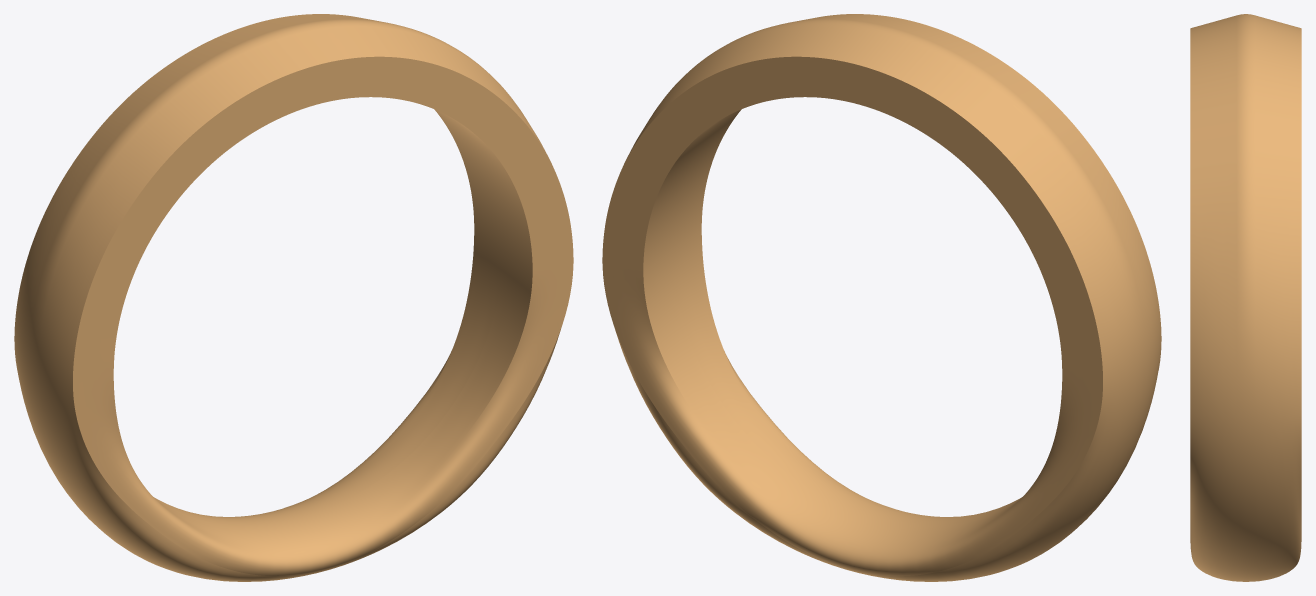
File: pureline-band.glb
3 renders of one model, left to right at view 1: azimuth 30°, elevation 25°; view 2: azimuth 150°, elevation 25°; view 3: azimuth 270°, elevation 25°, orthographic. The views are drawn at different scales.
Visible parts, largest first — view 1: uploads_files_5842278_f12653dm; view 2: uploads_files_5842278_f12653dm; view 3: uploads_files_5842278_f12653dm.
Part boxes in pixels (x1,y1,x2,y2): uploads_files_5842278_f12653dm: (14,14,573,581); uploads_files_5842278_f12653dm: (602,14,1161,581); uploads_files_5842278_f12653dm: (1190,14,1301,581).
Bounding box in the file's own units: 2.82 × 2.78 × 0.5493.
